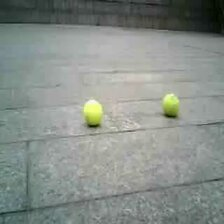tennis: (83, 99, 102, 124), (161, 93, 179, 114)
